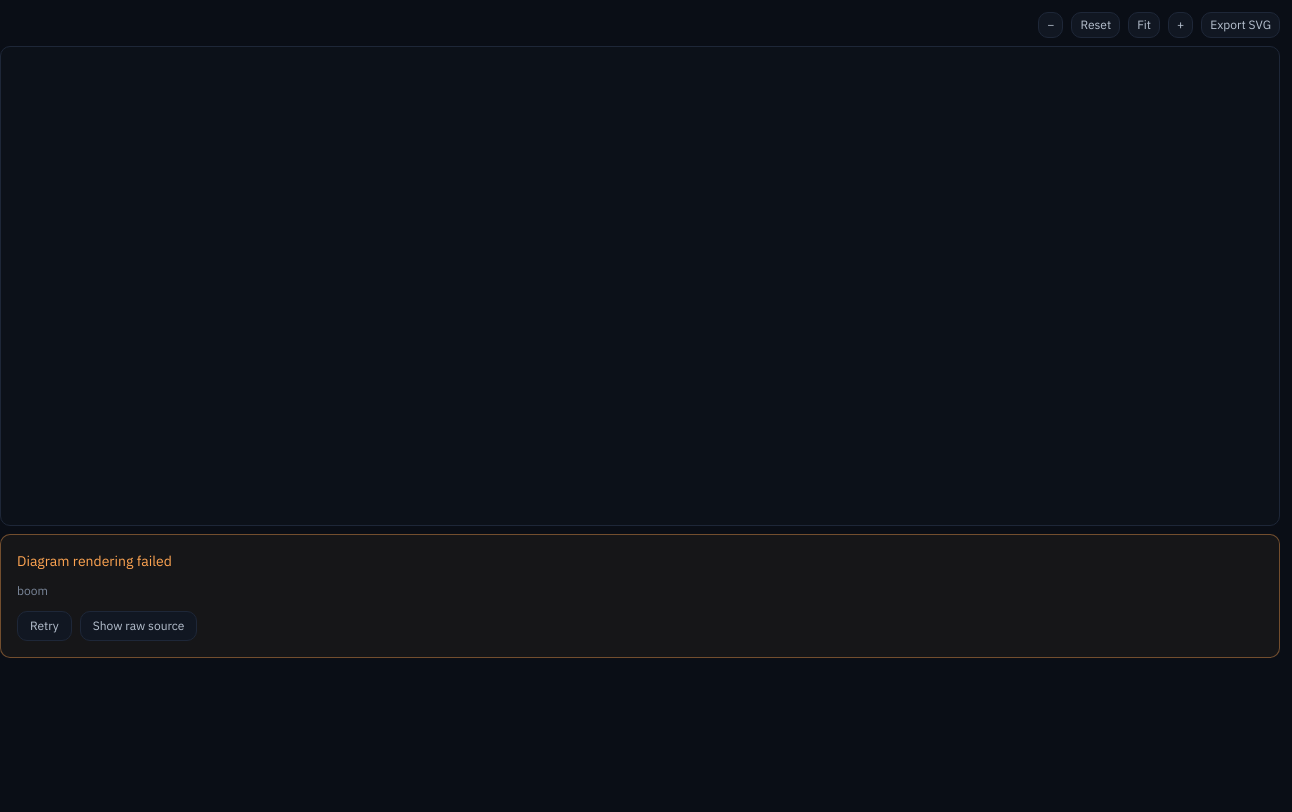
Scenario: DiagramView — ELK failure and retry › resets the cached ELK registration on any render failure so a retry can re-import and succeed
Expected: the text "Diagram rendering failed" is shown, [17,552,172,570]
Click the button "Retry" at (44, 626), box [17,611,72,641]
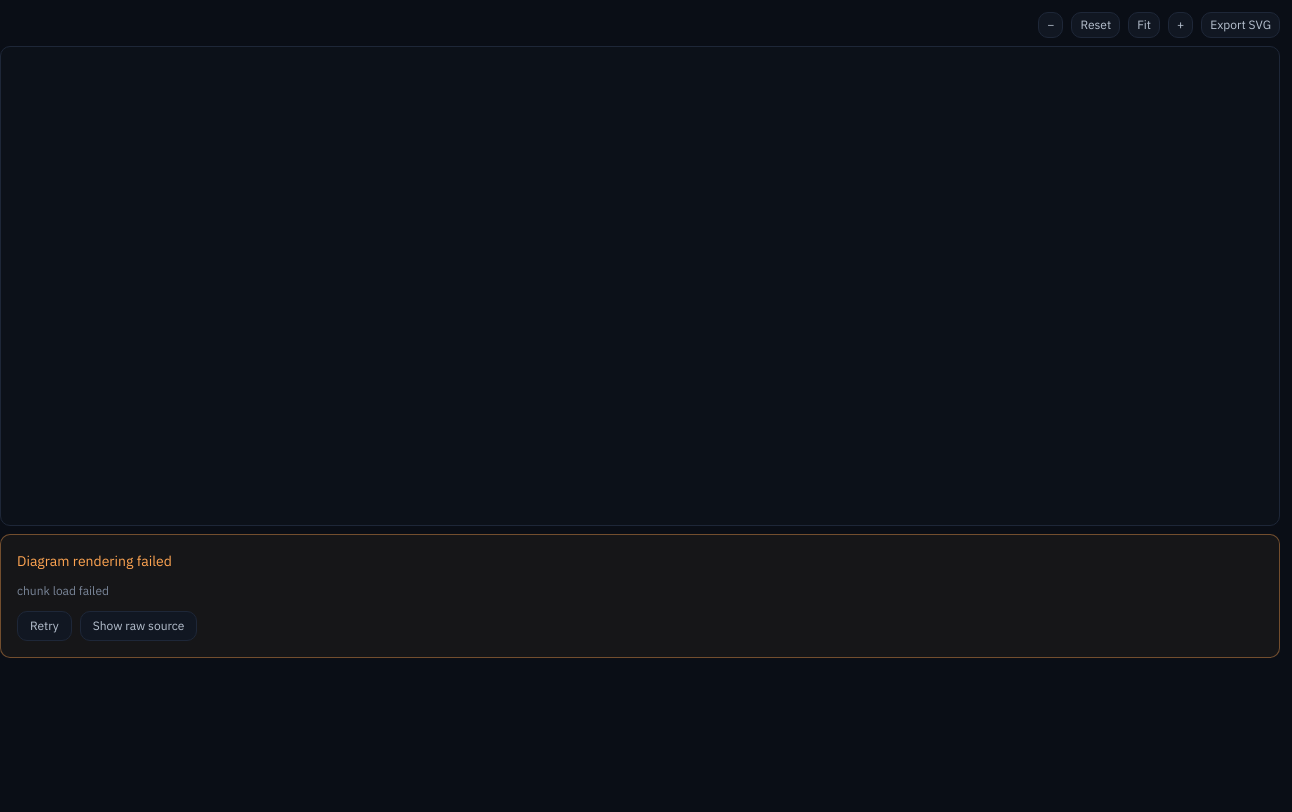
Expected: the text "Diagram rendering failed" is shown, [17,552,172,570]
# ELK registration succeeds this time — Retry should now render normally.
Click the button "Retry" at (44, 626), box [17,611,72,641]
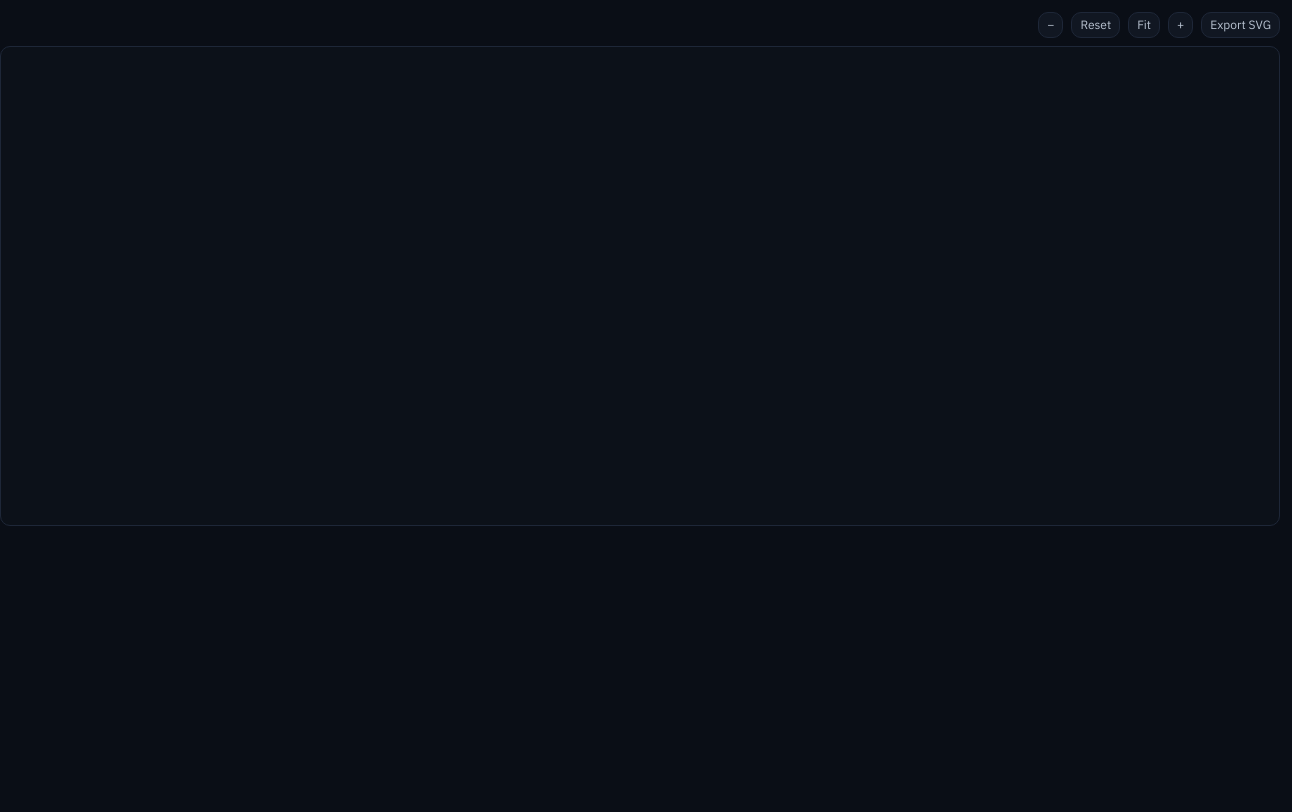
Result: the text "Diagram rendering failed" is gone
